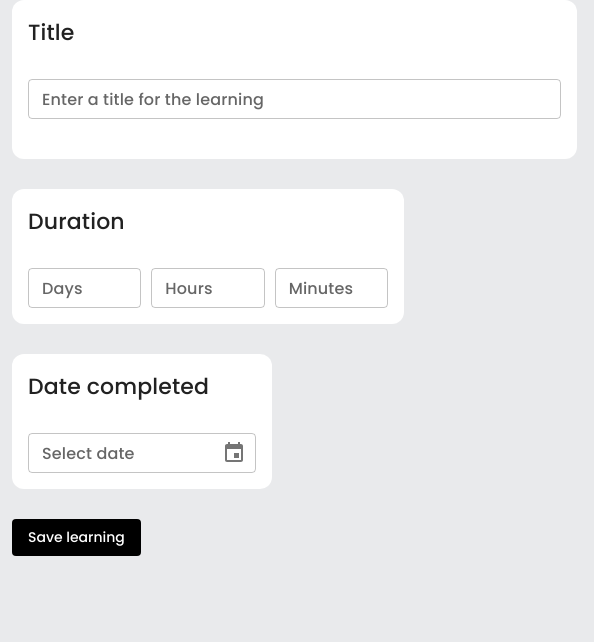
Test case: LearningAddForm › Validation error › for durations as 0
The image size is (594, 642).
Type "0" into the number field with test id "duration-days" at (85, 288), box left=28, top=268, right=141, bottom=308
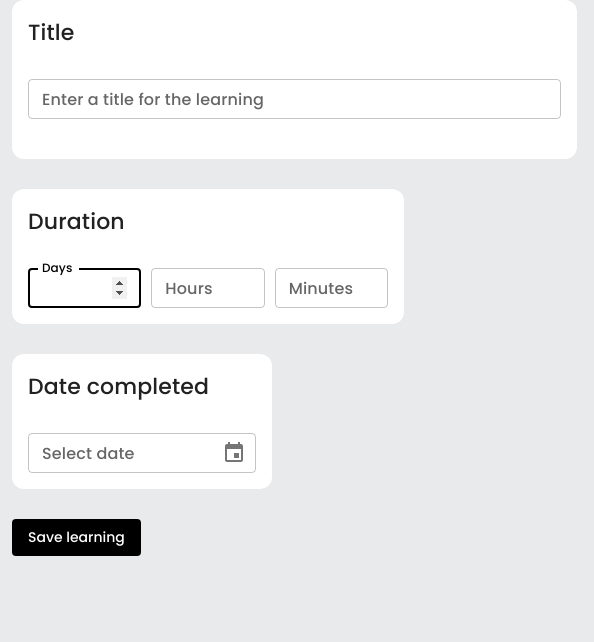
Click the button "Save learning" at (76, 537), box left=12, top=519, right=141, bottom=556
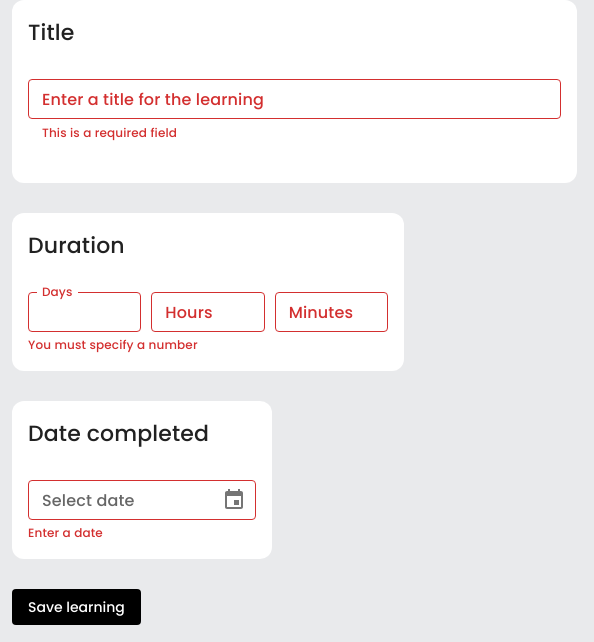
Expected: the text "You must specify a number" is shown, left=28, top=336, right=198, bottom=353
